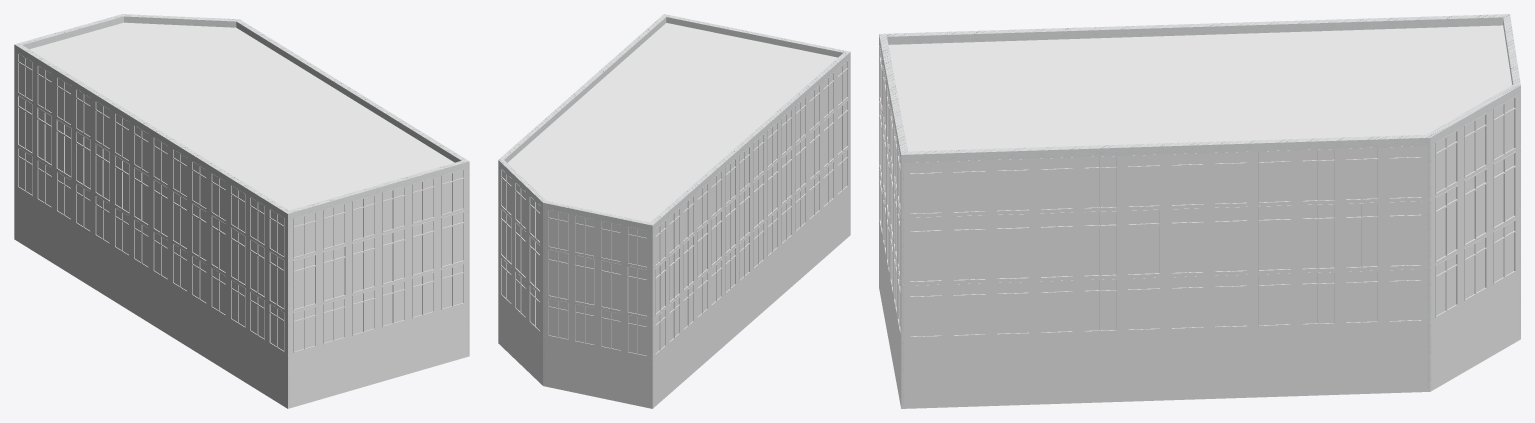
Rendered from clohbwqib038p4p02tsl6er9i_0.glb.
The picture shows the model from 3 angles, left to right: view 1: azimuth 30°, elevation 25°; view 2: azimuth 150°, elevation 25°; view 3: azimuth 270°, elevation 25°; orthographic projection. The views are drawn at different scales.
Visible parts, largest first — view 1: mesh_CityEnginePBRShader, _2 (×60), mesh_Wall, mesh_Glass, mesh_Brick, _1 (×2); view 2: mesh_CityEnginePBRShader, _2 (×45), mesh_Wall, mesh_Glass, mesh_Brick, _1 (×2); view 3: mesh_CityEnginePBRShader, _2 (×45), mesh_Wall, mesh_Glass, mesh_Brick, _1 (×6).
Boxes of the visible parts, x1,y1,x2,y2 form: mesh_CityEnginePBRShader: (14, 22, 469, 408); _2 (×60): (19, 54, 463, 351); mesh_Wall: (15, 52, 467, 405); mesh_Glass: (18, 189, 463, 404); mesh_Brick: (14, 14, 469, 406); _1 (×2): (352, 211, 464, 293); mesh_CityEnginePBRShader: (498, 23, 850, 408); _2 (×45): (501, 74, 847, 355); mesh_Wall: (499, 59, 849, 406); mesh_Glass: (501, 189, 847, 405); mesh_Brick: (498, 14, 850, 406); _1 (×2): (548, 249, 594, 305); mesh_CityEnginePBRShader: (879, 25, 1520, 408); _2 (×45): (910, 98, 1514, 336); mesh_Wall: (879, 44, 1519, 405); mesh_Glass: (879, 224, 1515, 405); mesh_Brick: (879, 14, 1520, 405); _1 (×6): (909, 151, 1515, 282).
Size of the model in its own units: 22.46 by 18.89 by 43.24.
Materials: 5 (1 with a texture image).
